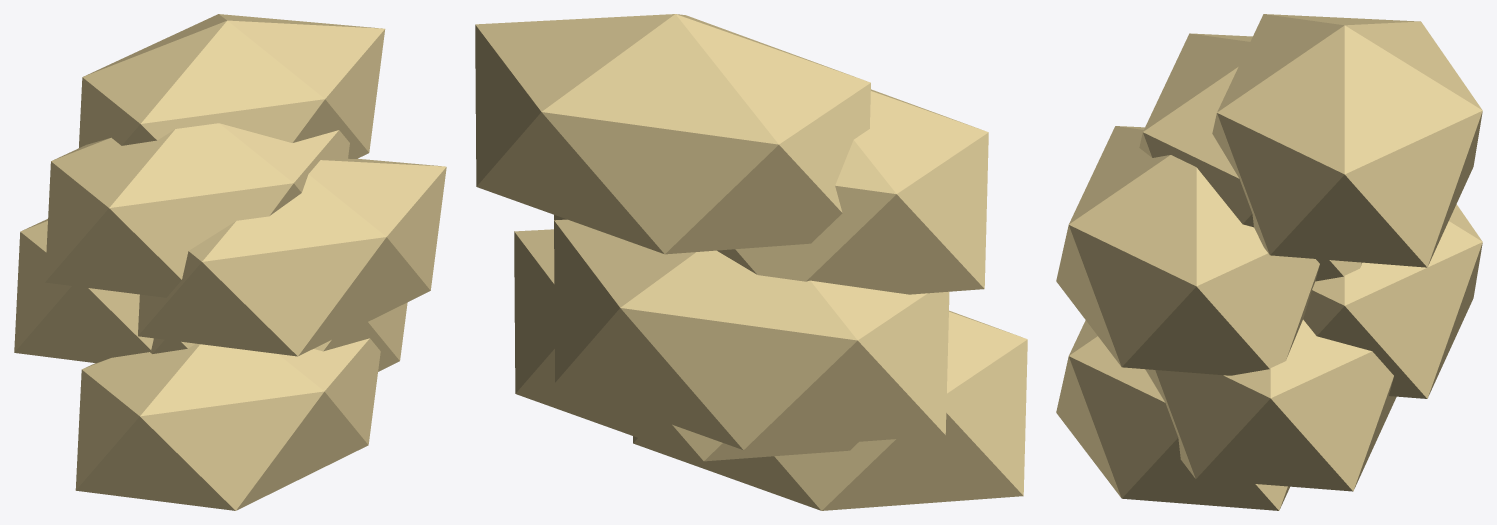
Rendered from item_063_lentil_l.glb.
3 views of the same model, side by side, from view 1: azimuth 30°, elevation 25°; view 2: azimuth 150°, elevation 25°; view 3: azimuth 270°, elevation 25° (orthographic). The views are drawn at different scales.
Visible parts, largest first — view 1: item_063_lentil_l; view 2: item_063_lentil_l; view 3: item_063_lentil_l.
Boxes of the visible parts, x1,y1,x2,y2 form: item_063_lentil_l: [14, 14, 446, 510]; item_063_lentil_l: [475, 14, 1027, 510]; item_063_lentil_l: [1056, 14, 1482, 510].
Bounding box in the file's own units: 0.4181 × 0.4422 × 0.3454.
